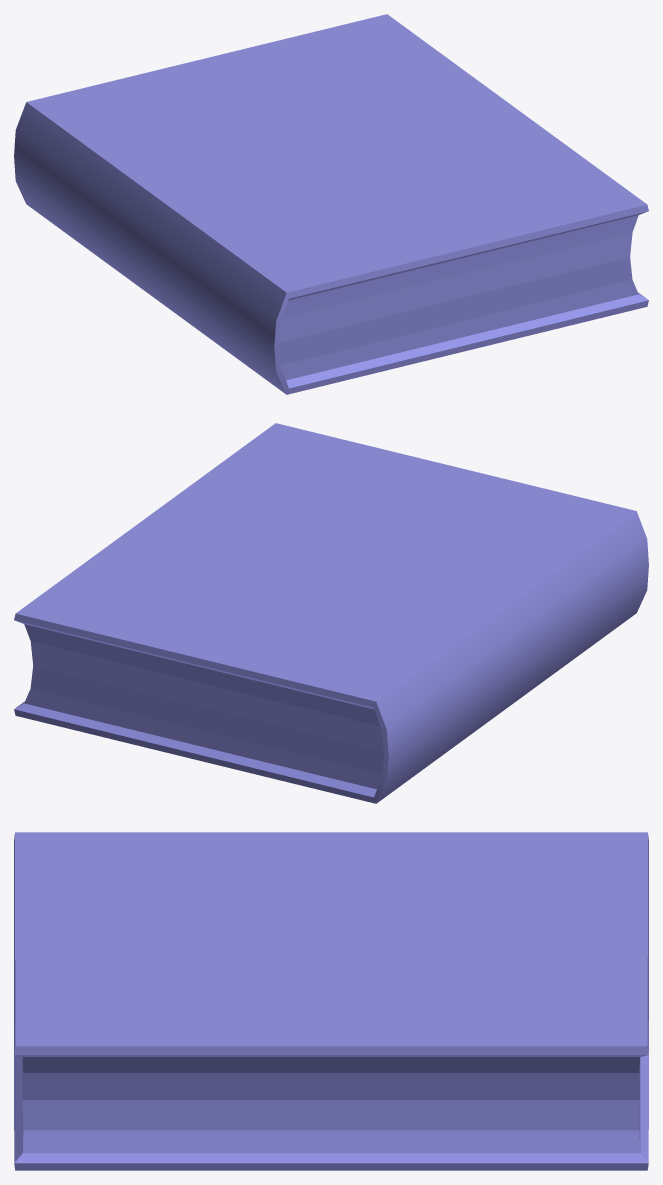
The model's file is Libro 3.fbx.
3 renders of one model, top to bottom at view 1: azimuth 30°, elevation 25°; view 2: azimuth 150°, elevation 25°; view 3: azimuth 270°, elevation 25°, orthographic. The views are drawn at different scales.
Visible parts, largest first — view 1: Libro_3; view 2: Libro_3; view 3: Libro_3.
Part boxes in pixels (box(x1,y1,x2,y2)): Libro_3: box(14, 14, 648, 394); Libro_3: box(14, 423, 648, 803); Libro_3: box(14, 832, 648, 1170).
Bounding box in the file's own units: 0.1888 × 0.0493 × 0.2283.
